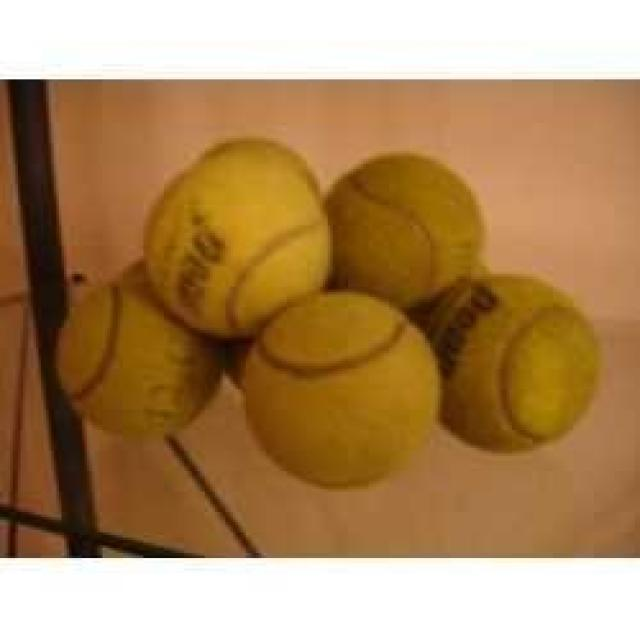Tennis_Ball: (239, 301, 442, 479), (140, 168, 325, 336), (418, 273, 598, 437), (326, 156, 484, 296), (63, 291, 208, 426)
